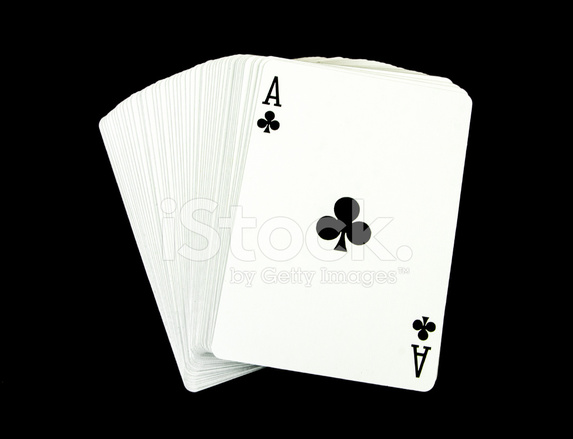ace of clubs: (212, 57, 471, 392)
